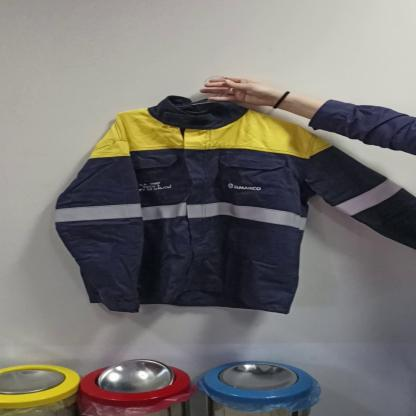C_eletrica: (56, 102, 416, 314)
